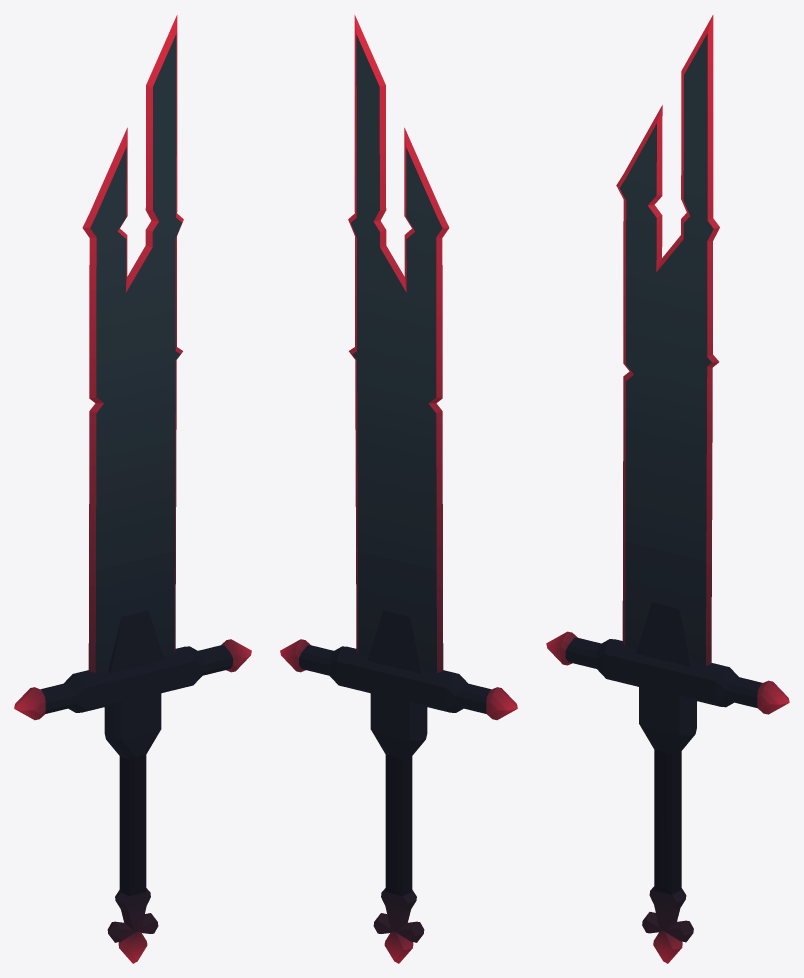
The model's file is bettersword.glb.
3 views of the same model, side by side, from view 1: azimuth 30°, elevation 25°; view 2: azimuth 150°, elevation 25°; view 3: azimuth 330°, elevation 25° (orthographic). The views are drawn at different scales.
Parts seen in each view (by area): view 1: Plane.001; view 2: Plane.001; view 3: Plane.001.
Boxes of the visible parts, left/top/right/bottom form: Plane.001: left=14, top=15, right=251, bottom=963; Plane.001: left=280, top=15, right=517, bottom=963; Plane.001: left=546, top=15, right=789, bottom=963.
Size of the model in its own units: 1.03 by 3.9 by 0.1184.
Materials: 2 (2 with a texture image).
